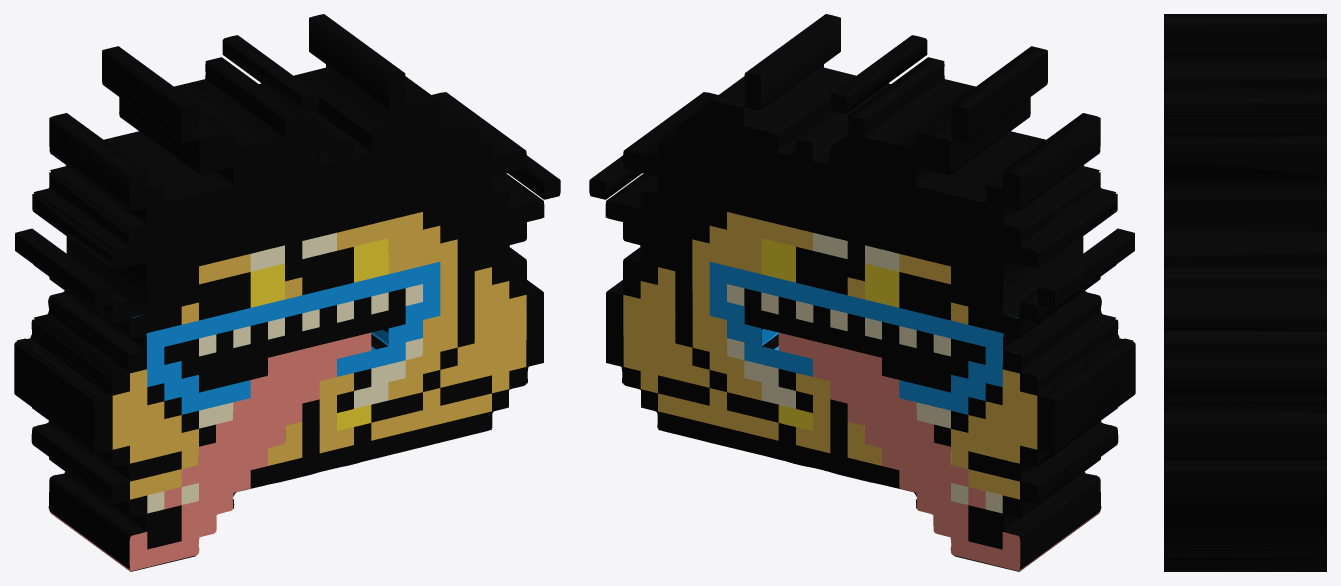
Rendered from Toadz_4419.glb.
3 renders of one model, left to right at view 1: azimuth 30°, elevation 25°; view 2: azimuth 150°, elevation 25°; view 3: azimuth 270°, elevation 25°, orthographic.
Parts seen in each view (by area): view 1: Curve; view 2: Curve; view 3: Curve.
Boxes of the visible parts, x1=… form: Curve: x1=14, y1=14, x2=560, y2=571; Curve: x1=589, y1=14, x2=1135, y2=571; Curve: x1=1164, y1=14, x2=1326, y2=571.
Bounding box in the file's own units: 3.37 × 3.11 × 1.
